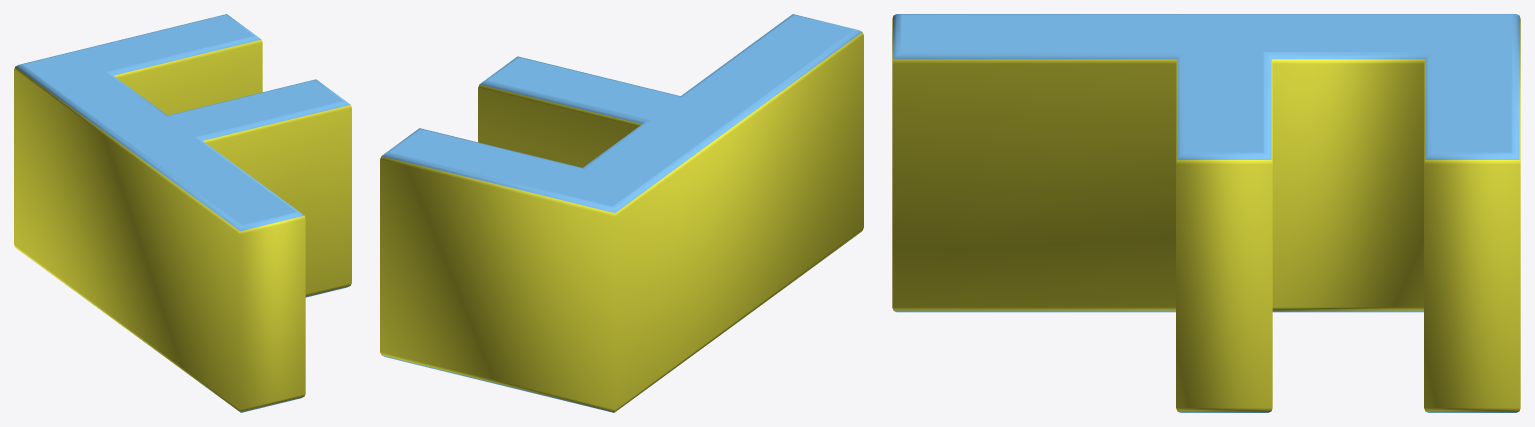
The model's file is letter_F.fbx.
The picture shows the model from 3 angles, left to right: view 1: azimuth 30°, elevation 25°; view 2: azimuth 150°, elevation 25°; view 3: azimuth 270°, elevation 25°; orthographic projection. The views are drawn at different scales.
Visible parts, largest first — view 1: Letter_F; view 2: Letter_F; view 3: Letter_F.
Part boxes in pixels (x1,y1,x2,y2): Letter_F: (14, 14, 351, 412); Letter_F: (380, 14, 863, 412); Letter_F: (892, 14, 1520, 412).
Size of the model in its own units: 38.4 by 32 by 70.2.
